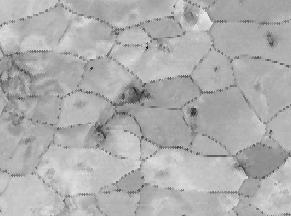good_void: (1, 52, 53, 128), (93, 81, 153, 140), (179, 4, 205, 29), (19, 134, 39, 158), (154, 40, 174, 58), (233, 159, 248, 171), (268, 33, 277, 45), (190, 105, 199, 116), (112, 29, 123, 38), (209, 65, 219, 74), (89, 64, 99, 73), (267, 127, 275, 136), (142, 44, 149, 51)
